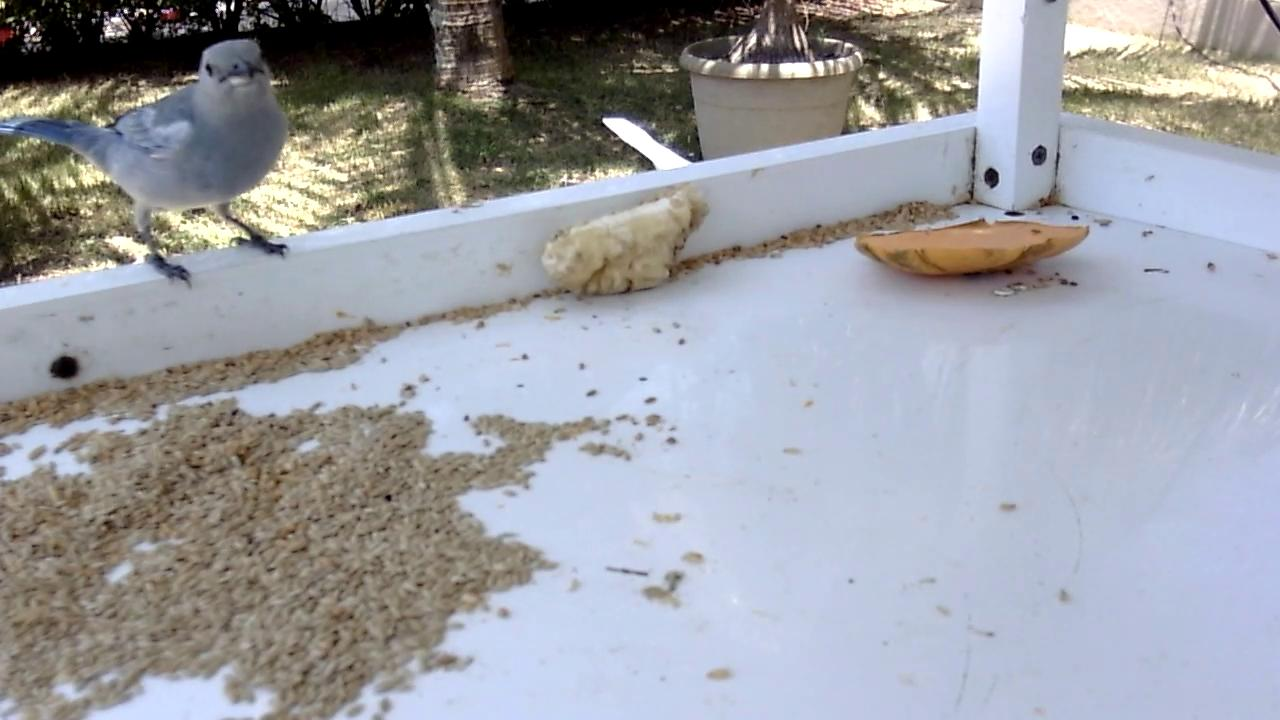sanhaco_da_amazonia: (1, 39, 293, 292)
